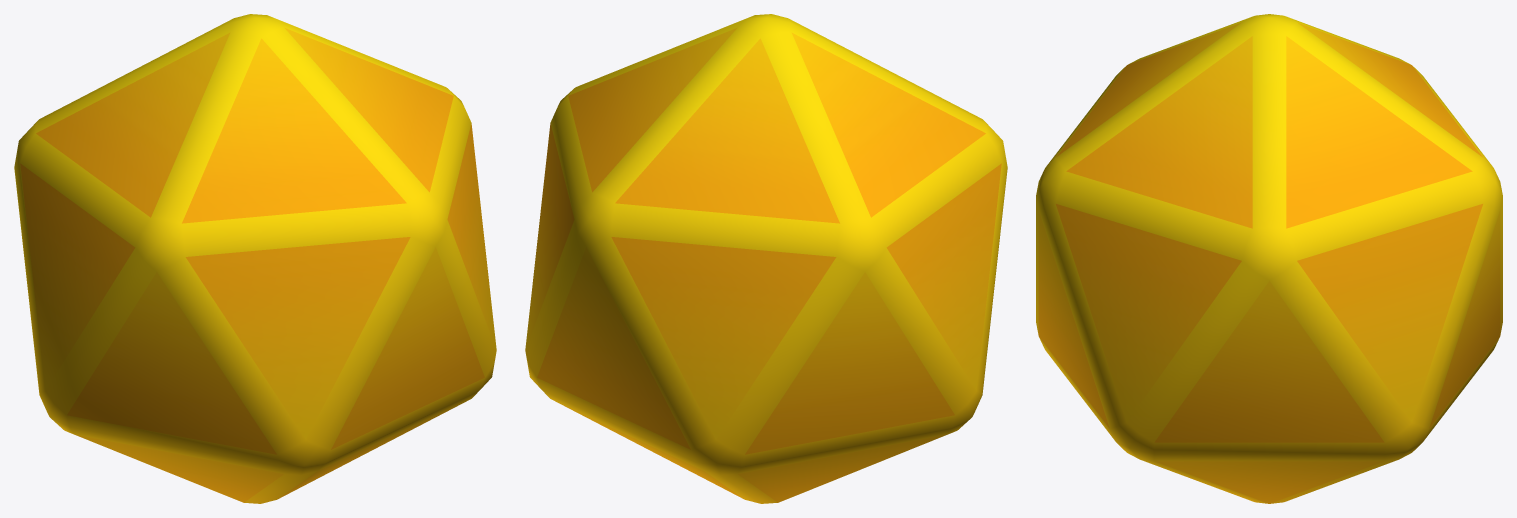
The model's file is booster_dice.fbx.
The picture shows the model from 3 angles, left to right: view 1: azimuth 30°, elevation 25°; view 2: azimuth 150°, elevation 25°; view 3: azimuth 270°, elevation 25°; orthographic projection.
Visible parts, largest first — view 1: booster_dice; view 2: booster_dice; view 3: booster_dice.
Boxes of the visible parts, x1=… form: booster_dice: x1=14, y1=14, x2=496, y2=503; booster_dice: x1=525, y1=14, x2=1007, y2=503; booster_dice: x1=1036, y1=14, x2=1502, y2=503.
Size of the model in its own units: 174 by 191 by 167.
